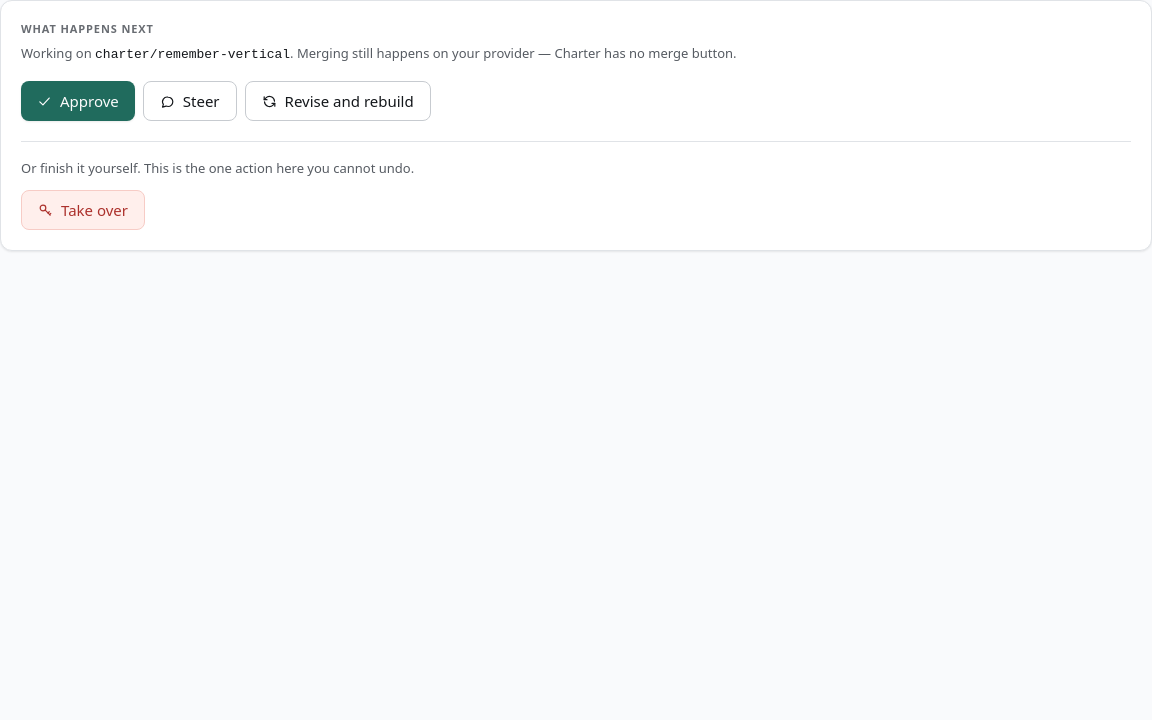
Take over is the consequential one (§7.5) › can be abandoned with Escape, since the honest answer may be "let me go and look"
The width and height of the screenshot is (1152, 720).
Click the button "Take over". click: [83, 210]
box: [21, 190, 145, 230]
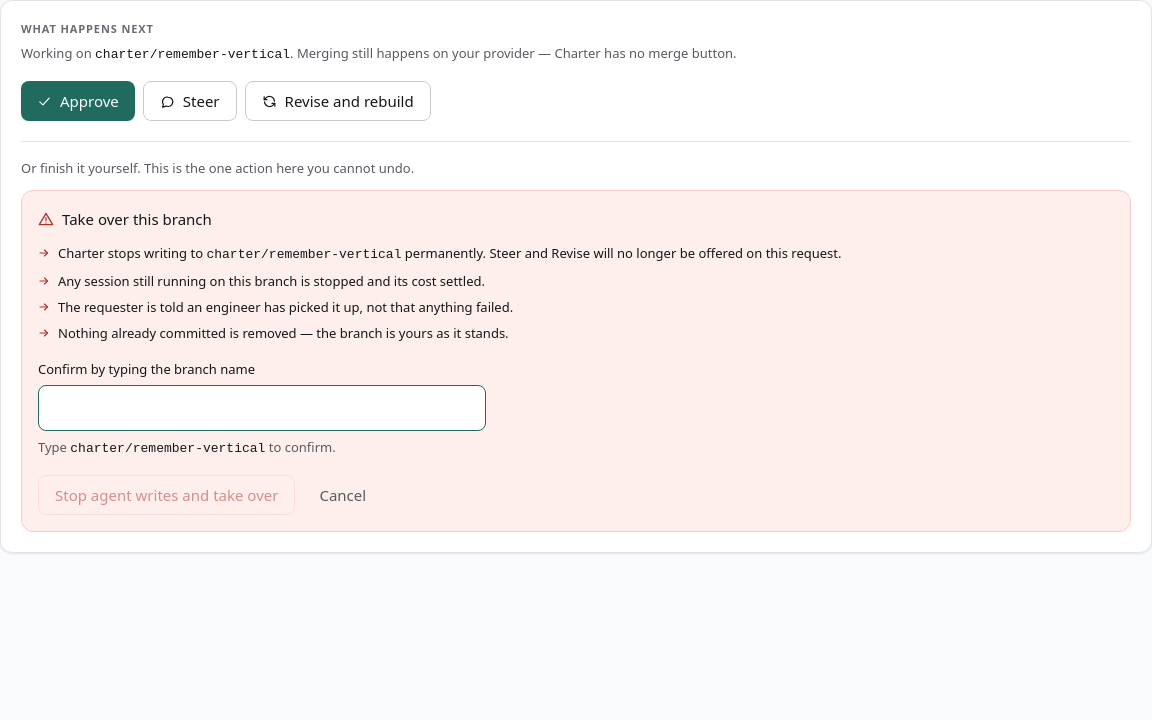
Expected: the heading "Take over this branch" is shown, [38, 209, 212, 229]
Press Escape
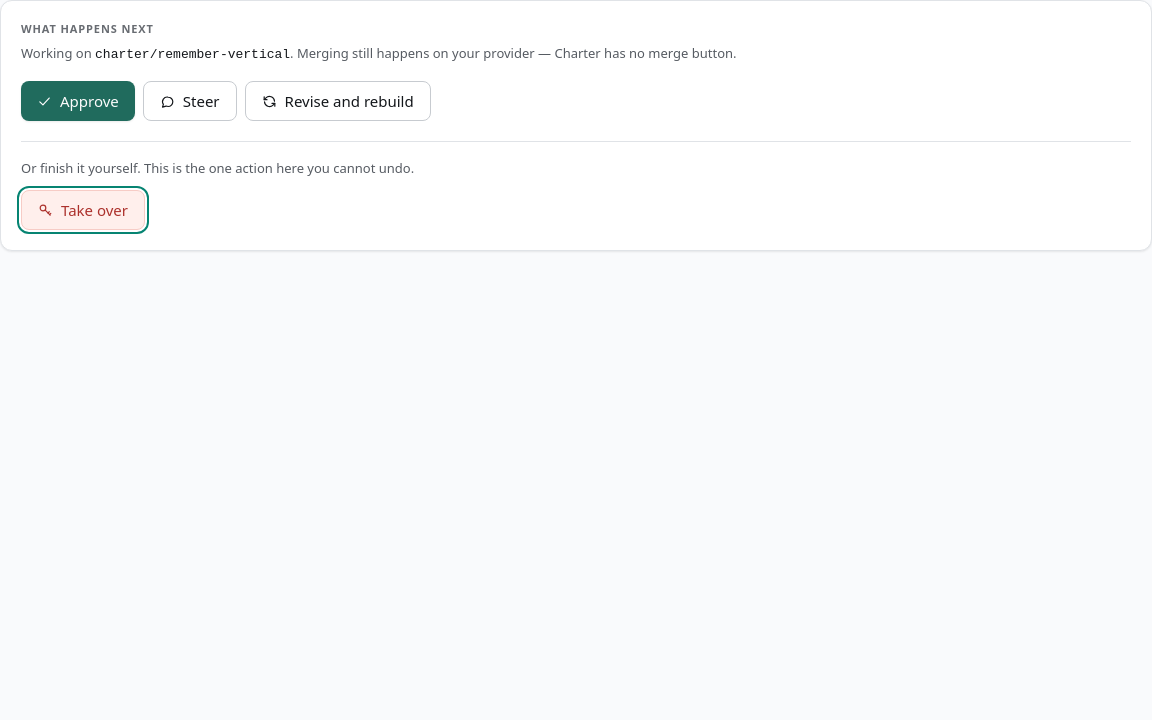
Expected: the button "Take over" is shown, [21, 190, 145, 230]
Expected: the heading "Take over this branch" is gone
